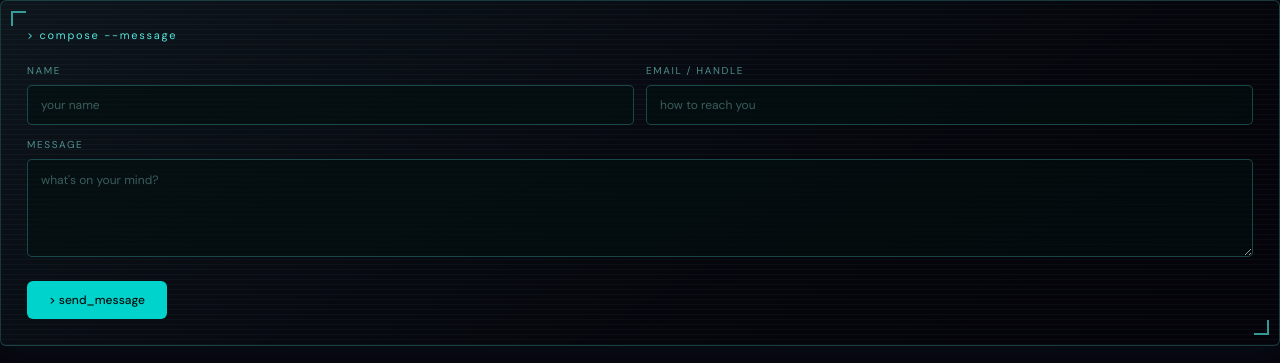
Test: ContactForm — submission › POSTs to the Formspree endpoint and shows the terminal receipt
Type "Jane" into the field labelled "NAME" at coordinates (330, 105), box x1=27 y1=85 x2=634 y2=125
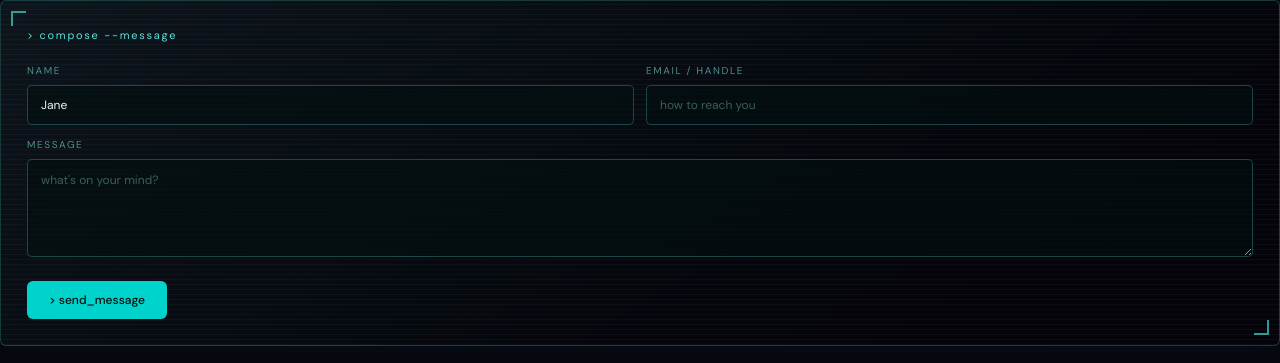
Type "Hello there" into the text box labelled "MESSAGE" at coordinates (640, 208), box x1=27 y1=159 x2=1253 y2=257
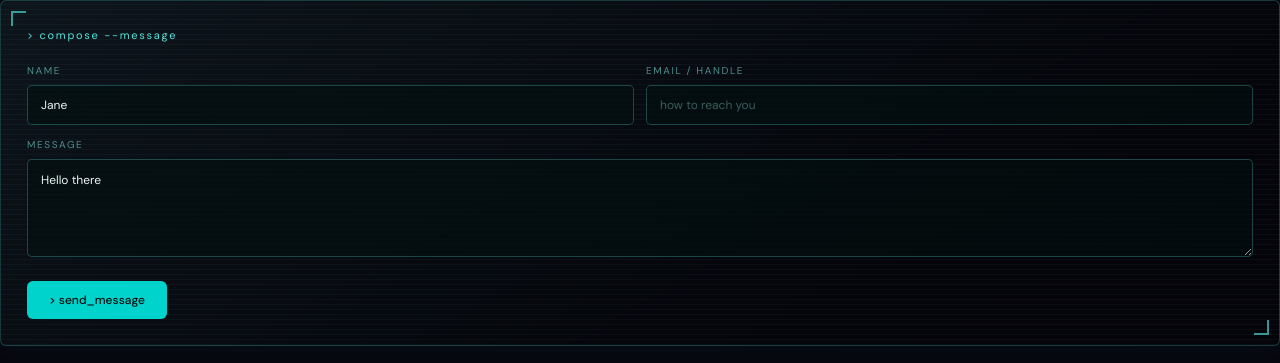
Submit the form with test id "contact-form"
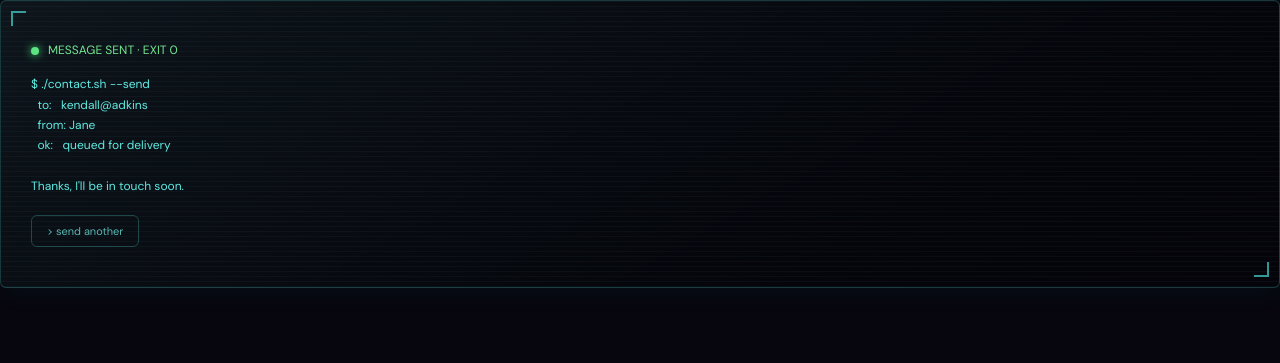
expect the text "MESSAGE SENT · EXIT 0" is shown: met, box x1=31 y1=42 x2=178 y2=58
expect the form with test id "contact-form" is gone: met
expect the text "from: Jane" is shown: met, box x1=31 y1=76 x2=184 y2=194
